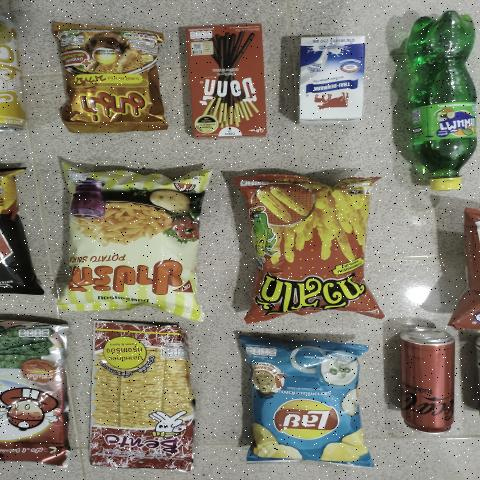bento_red: (89, 319, 202, 471)
coke_red: (394, 329, 459, 430)
fanta_green: (401, 13, 480, 191)
lay_blue: (249, 342, 359, 457)
mama: (59, 22, 160, 134)
paprika: (63, 168, 200, 316)
pokki: (188, 26, 263, 134)
thai_denmark: (290, 32, 364, 118)
twisco: (234, 169, 375, 320)
